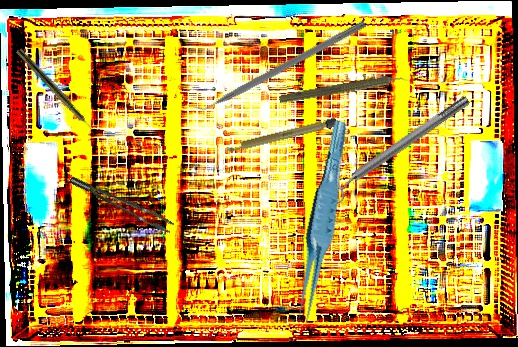Chopper: (186, 11, 367, 119)
Fixation Ring: (319, 89, 476, 208)
Handpiece: (14, 47, 100, 138), (278, 69, 415, 109)
Scalpel Handle: (225, 117, 338, 154)
Tissue Forceps: (279, 119, 363, 328), (69, 163, 175, 243)
